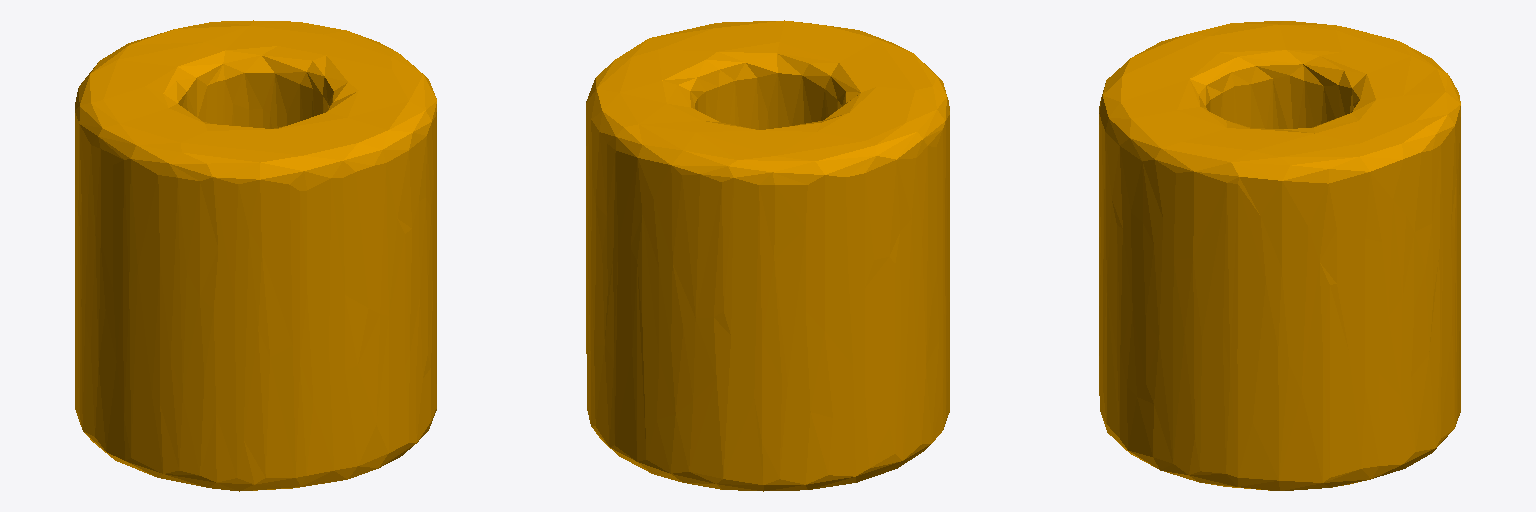
The robot description file, URDF, robot "toilet_paper_poisson_002":
<?xml version="1.0"?>
<robot name="toilet_paper_poisson_002">
  <link name="base_link">
    <contact>
      <lateral_friction value="1.0"/>
      <rolling_friction value="0.0"/>
      <contact_cfm value="0.0"/>
      <contact_erp value="1.0"/>
    </contact>
    <inertial>
      <mass value="0.597890091692"/>
      <inertia ixx="1" ixy="0" ixz="0" iyy="1" iyz="0" izz="1"/>
    </inertial>
    <visual>
      <geometry>
        <mesh filename="toilet_paper_poisson_002_visual.obj"/>
      </geometry>
    </visual>
    <collision>
      <geometry>
        <mesh filename="toilet_paper_poisson_002_collision.obj"/>
      </geometry>
    </collision>
  </link>
</robot>

--- What the picture shows (computed from the rendered views, not written in the file) ---
Views: 3 orthographic renders of the robot side by side, from view 1: azimuth 30°, elevation 25°; view 2: azimuth 150°, elevation 25°; view 3: azimuth 270°, elevation 25°.
Model toilet_paper_poisson_002 with 1 links and 0 joints (none), rooted at base_link, posed every joint at zero.
Links seen in each view (by area): view 1: base_link; view 2: base_link; view 3: base_link.
Link boxes in pixels (left/top/right/bottom): base_link: left=75, top=20, right=436, bottom=491; base_link: left=586, top=20, right=949, bottom=491; base_link: left=1099, top=21, right=1460, bottom=490.
Bounding box of the posed robot: 0.07 × 0.0699 × 0.0705 m (x, y, z).
1 mesh visuals loaded from 1 distinct referenced files (1 OBJ).